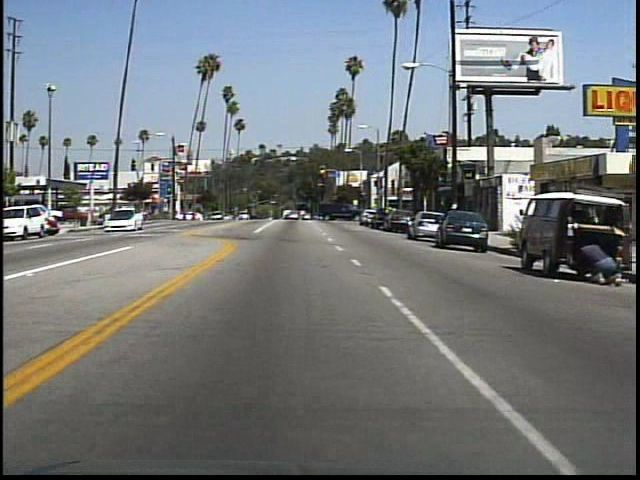person: (572, 238, 620, 290)
